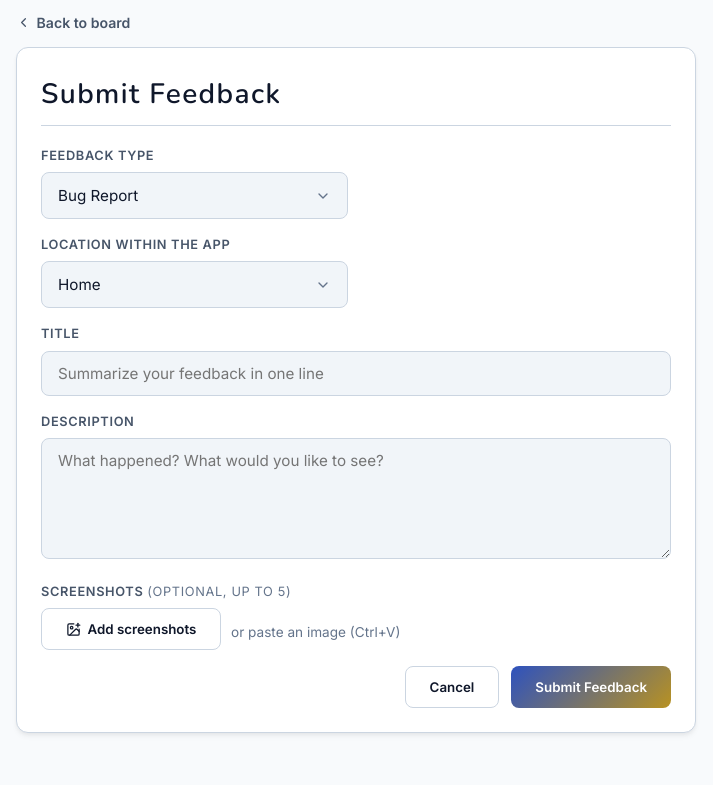
Test: FeedbackSubmitForm › shows similar existing requests while typing the title
This screenshot has width=713, height=785.
In the field labelled "Title": [356, 373] box [41, 350, 671, 396], type "dark mode"
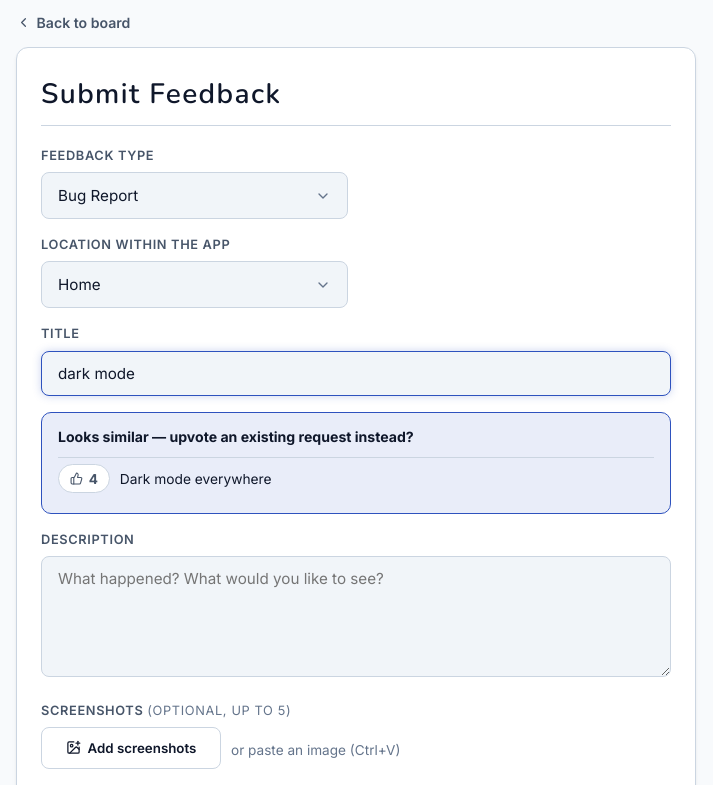
expect the text "Dark mode everywhere" is shown: met, box [120, 471, 272, 487]
expect the text "Looks similar — upvote an existing request instead?" is shown: met, box [58, 428, 414, 445]
